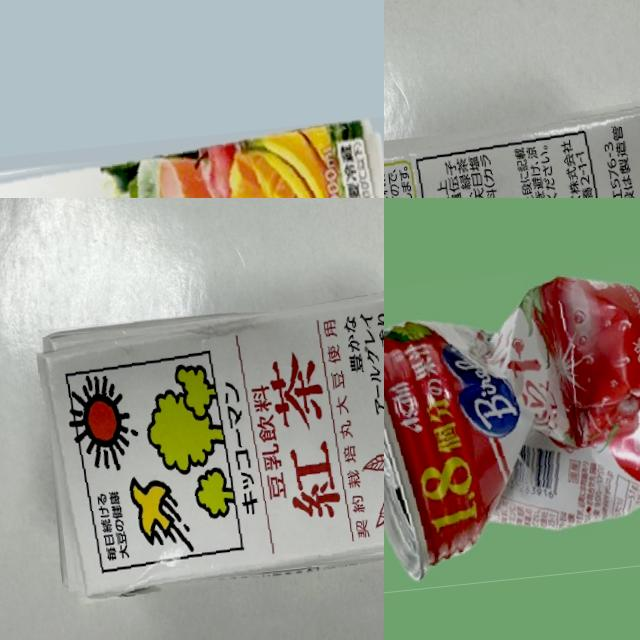Aluminium Foil: (36, 285, 384, 599), (0, 116, 384, 198), (384, 101, 640, 198)
Can: (384, 257, 640, 595)
